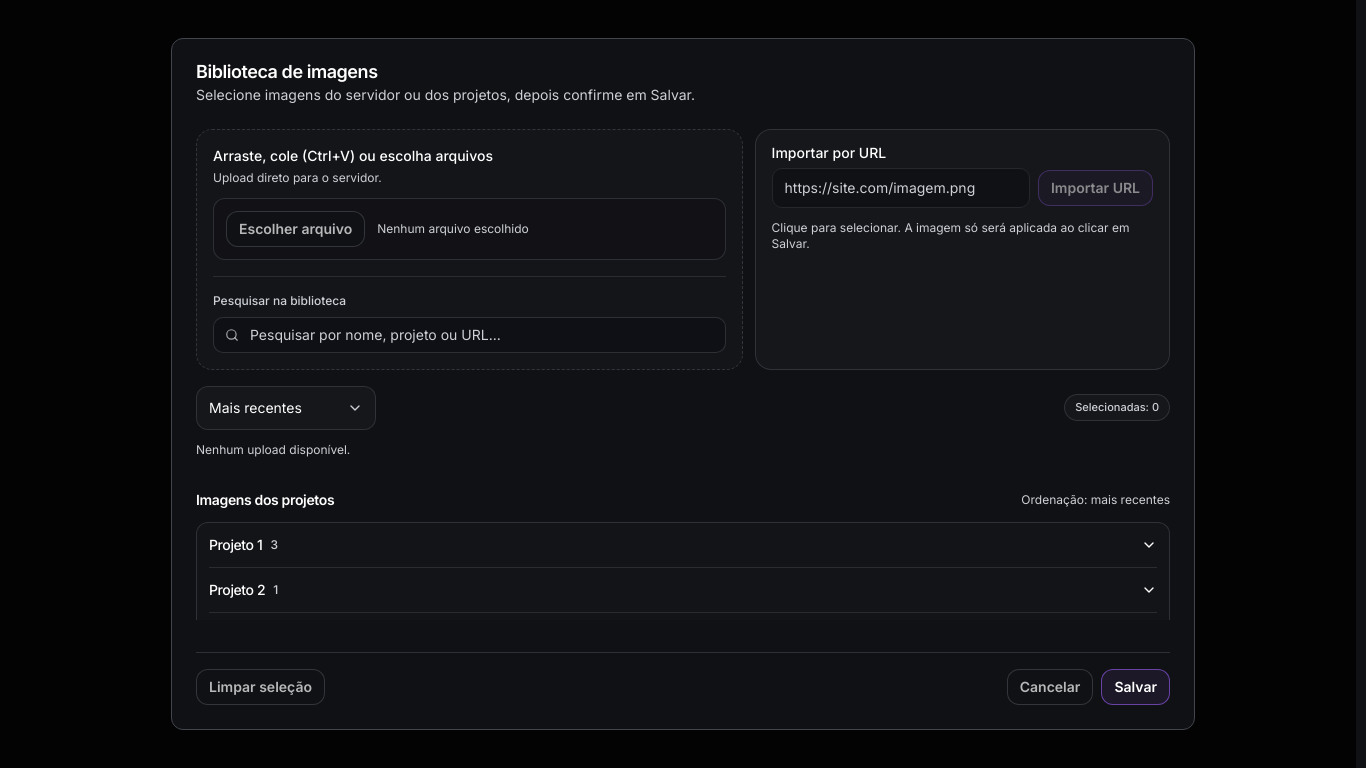
Test case: ImageLibraryDialog project groups › ordena projetos e pastas com comparacao natural
Expected: the button "Projeto 2 1" is shown, [209,568,1157,612]
Click the button "Projeto 1 3" at (236, 544), box [209,523,1157,567]
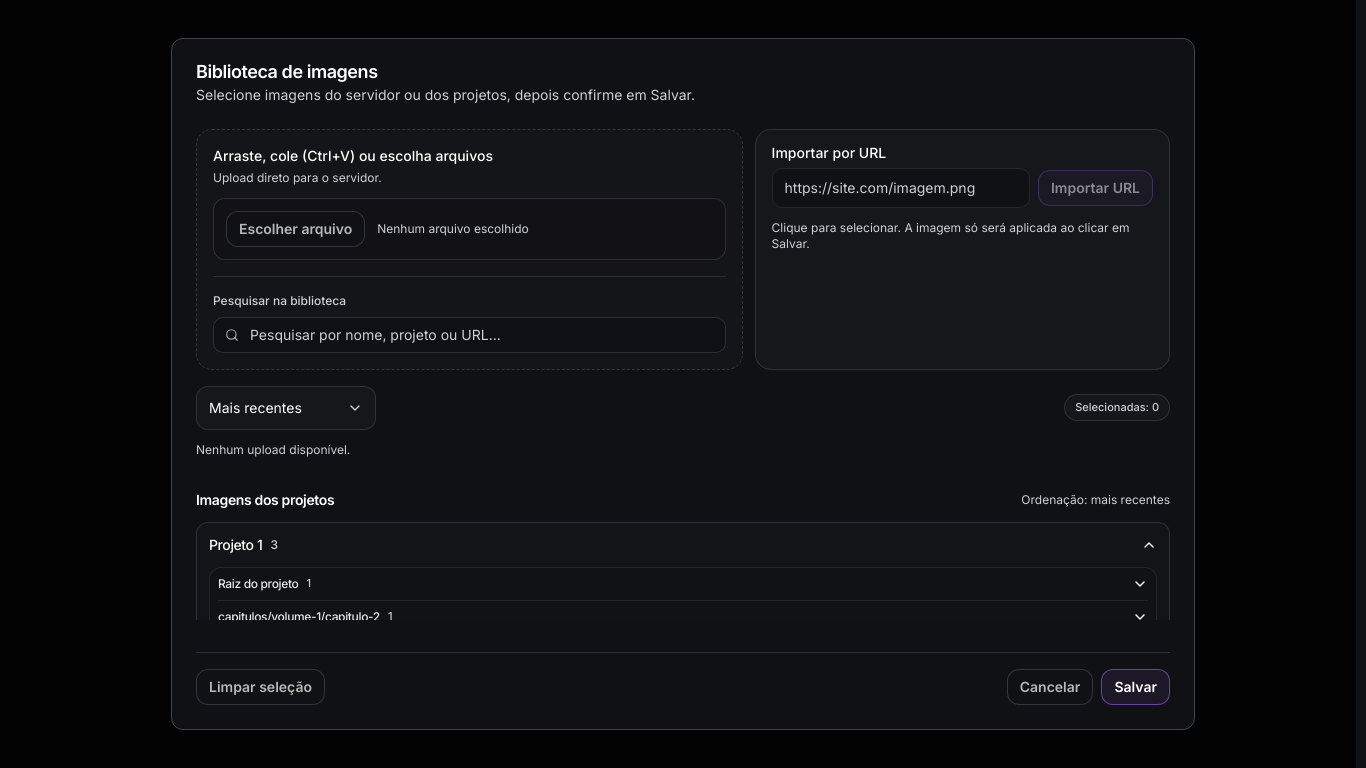
Now the button "Raiz do projeto 1" is shown, box [218,568,1148,600]
